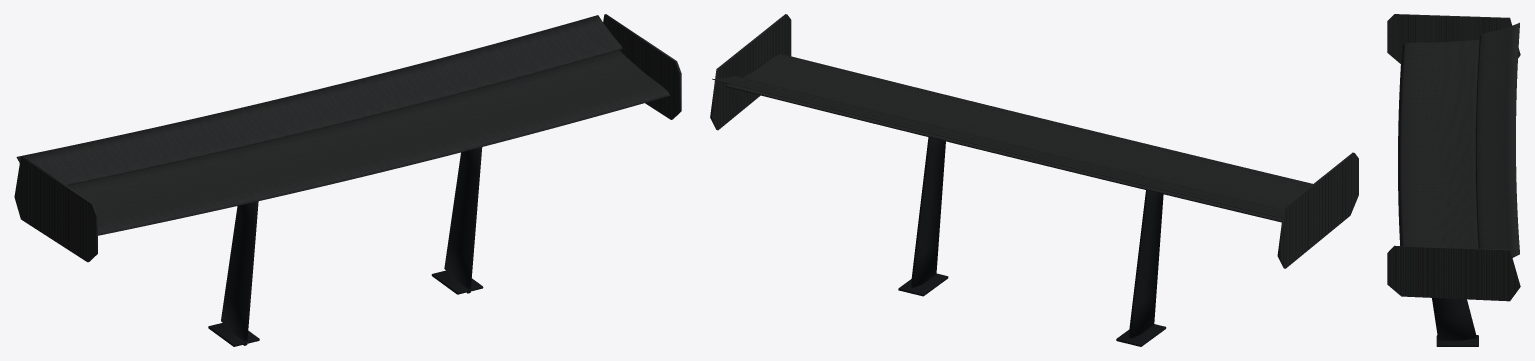
Rendered from RA61_time_attack_wing.glb.
3 renders of one model, left to right at view 1: azimuth 30°, elevation 25°; view 2: azimuth 150°, elevation 25°; view 3: azimuth 270°, elevation 25°, orthographic. The views are drawn at different scales.
Parts seen in each view (by area): view 1: MOD_NA_RA61_main, MOD_NA_RA61_flap, MOD_NA_RA61_endplate_R, MOD_NA_RA61_upright_L, MOD_NA_RA61_upright_R, MOD_NA_RA61_endplate_L, MOD_NA_RA61_foot_L, MOD_NA_RA61_foot_R; view 2: MOD_NA_RA61_main, MOD_NA_RA61_flap, MOD_NA_RA61_endplate_R, MOD_NA_RA61_endplate_L, MOD_NA_RA61_upright_L, MOD_NA_RA61_upright_R, MOD_NA_RA61_foot_R, MOD_NA_RA61_foot_L; view 3: MOD_NA_RA61_main, MOD_NA_RA61_flap, MOD_NA_RA61_endplate_L, MOD_NA_RA61_endplate_R, MOD_NA_RA61_upright_L, MOD_NA_RA61_foot_L.
Part boxes in pixels (x1,y1,x2,y2): MOD_NA_RA61_main: [67, 50, 670, 235]; MOD_NA_RA61_flap: [16, 15, 622, 185]; MOD_NA_RA61_endplate_R: [14, 156, 97, 262]; MOD_NA_RA61_upright_L: [444, 147, 482, 293]; MOD_NA_RA61_upright_R: [221, 201, 258, 345]; MOD_NA_RA61_endplate_L: [603, 14, 681, 119]; MOD_NA_RA61_foot_L: [431, 270, 483, 294]; MOD_NA_RA61_foot_R: [208, 323, 259, 346]; MOD_NA_RA61_main: [726, 54, 1312, 222]; MOD_NA_RA61_flap: [712, 76, 1283, 218]; MOD_NA_RA61_endplate_R: [1277, 152, 1358, 268]; MOD_NA_RA61_endplate_L: [710, 14, 791, 130]; MOD_NA_RA61_upright_L: [910, 137, 945, 287]; MOD_NA_RA61_upright_R: [1128, 190, 1163, 338]; MOD_NA_RA61_foot_R: [1116, 324, 1166, 346]; MOD_NA_RA61_foot_L: [898, 273, 948, 296]; MOD_NA_RA61_main: [1398, 39, 1479, 248]; MOD_NA_RA61_flap: [1475, 22, 1519, 257]; MOD_NA_RA61_endplate_L: [1387, 245, 1520, 301]; MOD_NA_RA61_endplate_R: [1387, 14, 1520, 63]; MOD_NA_RA61_upright_L: [1432, 298, 1476, 340]; MOD_NA_RA61_foot_L: [1436, 335, 1478, 346].
Size of the model in its own units: 1.57 by 0.5328 by 0.38.
Materials: 2 (1 with a texture image).
